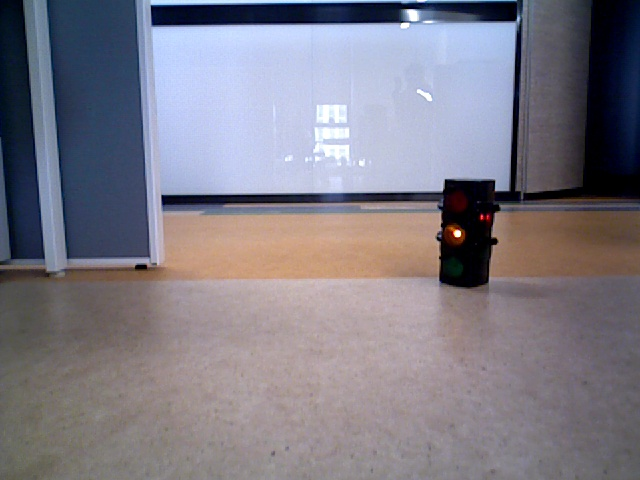yellow: (444, 180, 491, 287)
